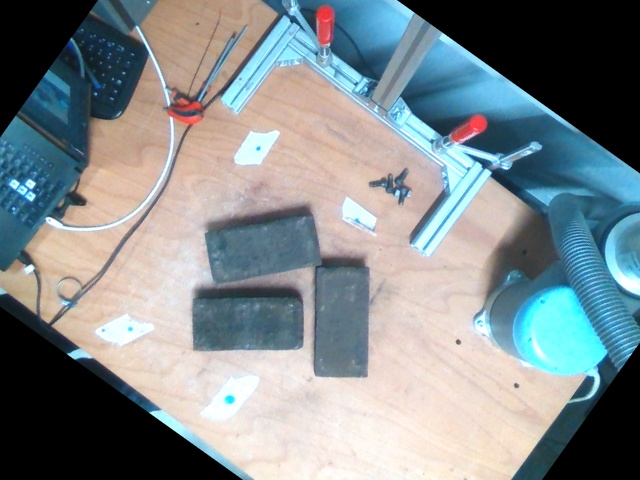brick: (204, 216, 321, 283), (190, 299, 302, 351), (315, 269, 366, 379)
